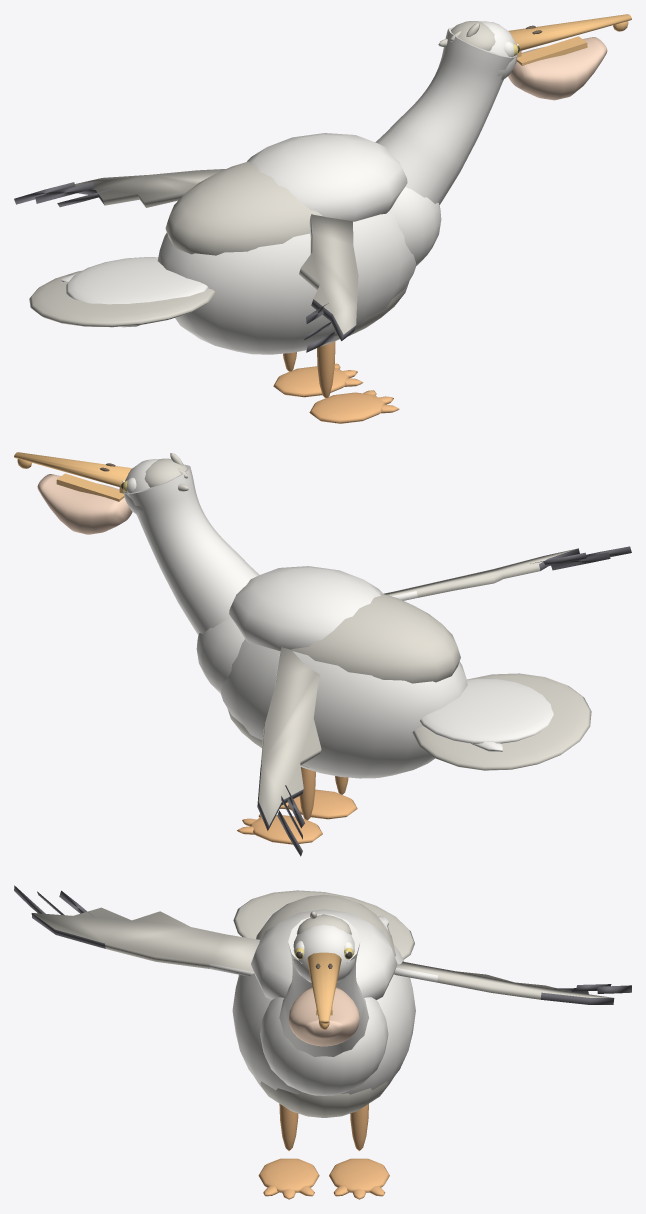
File: pelican.glb
The picture shows the model from 3 angles, top to bottom: view 1: azimuth 30°, elevation 25°; view 2: azimuth 150°, elevation 25°; view 3: azimuth 270°, elevation 25°; orthographic projection. The views are drawn at different scales.
Visible parts, largest first — view 1: GEO-body, GEO-neck, GEO-shoulder, GEO-back, WingR, GEO-tail2, GEO-tail, WingL, GEO-pouch, GEO-chest, GEO-footR, GEO-bill (+5 smaller); view 2: GEO-body, GEO-neck, GEO-back, GEO-shoulder, WingL, GEO-tail, GEO-tail2, GEO-pouch, WingR, GEO-chest, GEO-bill, GEO-footL (+5 smaller); view 3: WingR, GEO-body, GEO-chest, GEO-shoulder, WingL, GEO-neck, GEO-tail, GEO-pouch, GEO-belly, GEO-back, GEO-head, GEO-bill (+5 smaller).
Part boxes in pixels (left/top/right/bottom): GEO-body: left=157, top=209, right=416, bottom=354; GEO-neck: left=375, top=27, right=516, bottom=205; GEO-shoulder: left=247, top=133, right=407, bottom=221; GEO-back: left=165, top=162, right=322, bottom=255; WingR: left=299, top=214, right=358, bottom=352; GEO-tail2: left=66, top=257, right=208, bottom=304; GEO-tail: left=29, top=270, right=215, bottom=327; WingL: left=14, top=169, right=225, bottom=207; GEO-pouch: left=508, top=37, right=607, bottom=100; GEO-chest: left=391, top=186, right=441, bottom=265; GEO-footR: left=309, top=392, right=386, bottom=423; GEO-bill: left=508, top=14, right=631, bottom=50; GEO-body: left=220, top=639, right=467, bottom=778; GEO-neck: left=124, top=464, right=259, bottom=635; GEO-back: left=291, top=593, right=460, bottom=683; GEO-shoulder: left=229, top=566, right=383, bottom=650; WingL: left=257, top=647, right=321, bottom=856; GEO-tail: left=412, top=673, right=591, bottom=770; GEO-tail2: left=420, top=678, right=553, bottom=744; GEO-pouch: left=37, top=474, right=132, bottom=534; WingR: left=383, top=546, right=631, bottom=600; GEO-chest: left=196, top=617, right=244, bottom=693; GEO-bill: left=14, top=452, right=132, bottom=487; GEO-footL: left=249, top=815, right=322, bottom=844; WingR: left=14, top=885, right=260, bottom=976; GEO-body: left=232, top=944, right=415, bottom=1094; GEO-chest: left=260, top=997, right=388, bottom=1095; GEO-shoulder: left=251, top=909, right=397, bottom=999; WingL: left=394, top=961, right=631, bottom=1004; GEO-neck: left=279, top=914, right=369, bottom=1056; GEO-tail: left=233, top=890, right=414, bottom=959; GEO-pouch: left=288, top=987, right=359, bottom=1046; GEO-belly: left=254, top=1077, right=393, bottom=1117; GEO-back: left=256, top=894, right=395, bottom=956; GEO-head: left=292, top=924, right=356, bottom=982; GEO-bill: left=307, top=952, right=341, bottom=1023.
Bounding box in the file's own units: 2.16 × 1.22 × 2.02.
